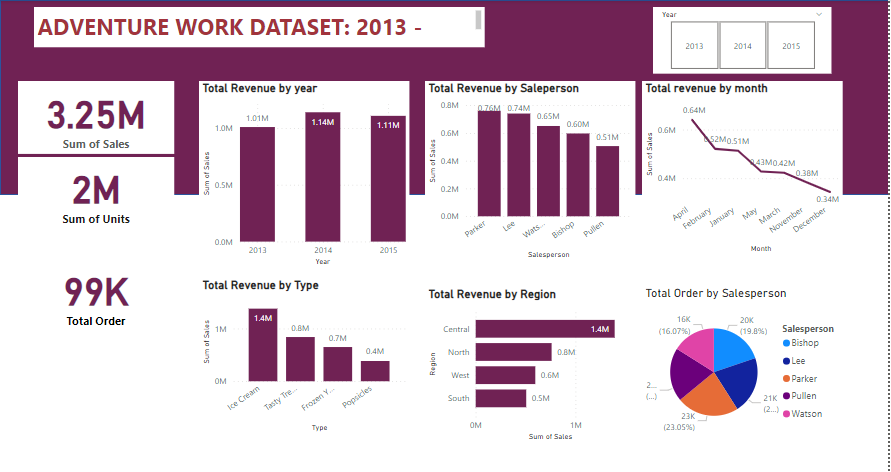

The dashboard page shown, as its layout file describes it:
{"tool":"powerbi","page":{"name":"Page 1","canvas":[1280,720],"ordinal":0},"visuals":[{"type":"shape","box":[0,0,1280.2,280.8],"z":0},{"type":"columnChart","title":"Total Revenue by year","fields":{"Y":["Sales Data.Sales"],"Category":["Sales Data.Year"]},"box":[286.5,116.2,302.7,270.3],"z":1000},{"type":"card","fields":{"Values":["Sales Data.Sales"]},"box":[25.9,116.6,224.6,105.1],"z":2000},{"type":"card","fields":{"Values":["Sales Data.Units"]},"box":[25.9,226.1,224.6,100.8],"z":3000},{"type":"columnChart","title":"Total Revenue by Saleperson ","fields":{"Category":["Sales Data.Salesperson"],"Y":["Sales Data.Sales"]},"box":[612.2,116.2,302.7,260.8],"z":4000},{"type":"card","fields":{"Values":["Sales Data.Order #"]},"box":[25.9,360,224.6,128.2],"z":5000},{"type":"lineChart","title":"Total revenue by month","fields":{"Category":["Sales Data.Month"],"Y":["Sales Data.Sales"]},"box":[924.3,116.2,289.2,251.4],"z":6000},{"type":"columnChart","title":"Total Revenue by Type","fields":{"Y":["Sales Data.Sales"],"Category":["Sales Data.Type"]},"box":[286.5,400,302.7,225.7],"z":7000},{"type":"barChart","title":"Total Revenue by Region","fields":{"Category":["Sales Data.Region"],"Y":["Sales Data.Sales"]},"box":[612.2,413.5,302.7,225.7],"z":8000},{"type":"pieChart","title":"Total Order by Salesperson","fields":{"Y":["Sales Data.Order #"],"Series":["Sales Data.Salesperson"]},"box":[924.3,412.2,300,227],"z":9000},{"type":"slicer","fields":{"Values":["Sales Data.Year"]},"box":[940.5,9.5,256.8,95.9],"z":10000},{"type":"textbox","box":[26,488,225,150],"z":11000},{"type":"textbox","box":[49,10.1,649.4,57.6],"z":12000},{"type":"columnChart","fields":{"Category":["Sales Data.Region"],"Y":["Sales Data.Salesperson"]},"box":[10.1,488.2,266.4,224.6],"z":12001}]}

Visuals, with their boxes on the page's 1280x720 design canvas (x1, y1, x2, y2). These are canvas units, not pixel positions in the 891x472 screenshot, which may show the page scaled, cropped or inside an application window:
shape: 0, 0, 1280, 281
"Total Revenue by year" columnChart: 286, 116, 589, 386
card - Sales Data.Sales: 26, 117, 250, 222
card - Sales Data.Units: 26, 226, 250, 327
"Total Revenue by Saleperson " columnChart: 612, 116, 915, 377
card - Sales Data.Order #: 26, 360, 250, 488
"Total revenue by month" lineChart: 924, 116, 1214, 368
"Total Revenue by Type" columnChart: 286, 400, 589, 626
"Total Revenue by Region" barChart: 612, 414, 915, 639
"Total Order by Salesperson" pieChart: 924, 412, 1224, 639
slicer - Sales Data.Year: 940, 10, 1197, 105
textbox: 26, 488, 251, 638
textbox: 49, 10, 698, 68
columnChart - Sales Data.Region x Sales Data.Salesperson: 10, 488, 276, 713
